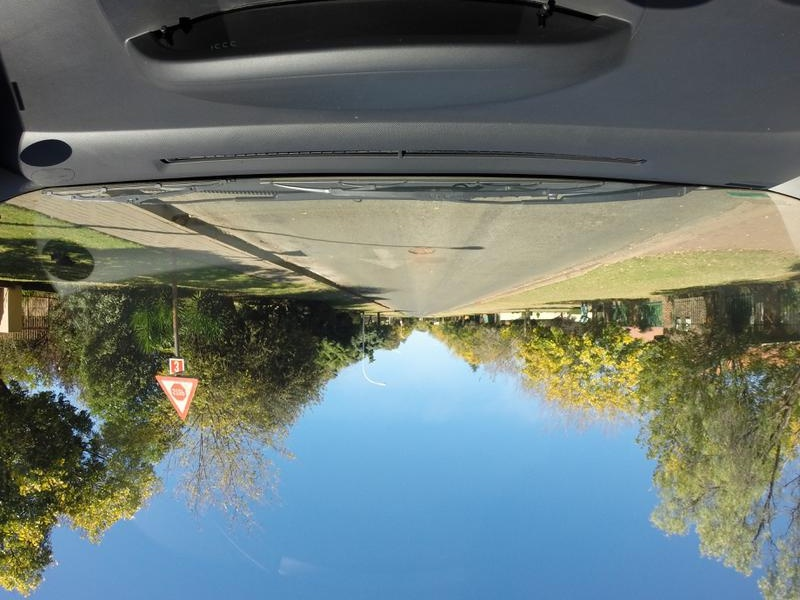pothole: (408, 244, 437, 255)
